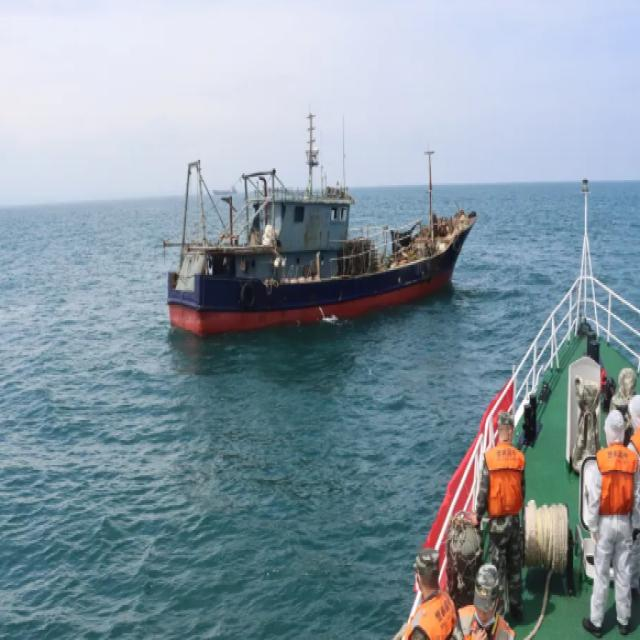fishing boat: (166, 96, 479, 340)
